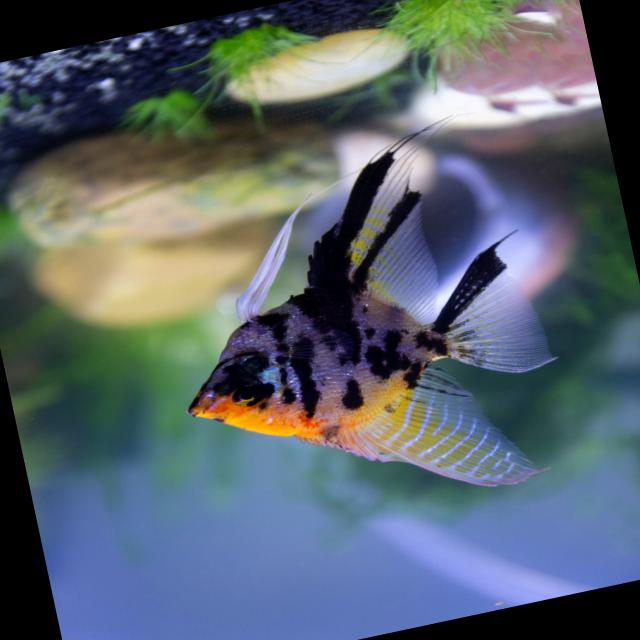AngelFish: (140, 111, 576, 547)
